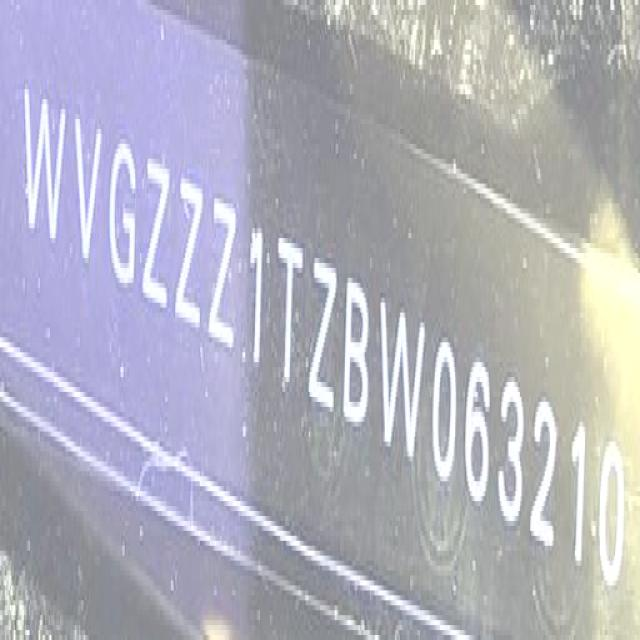0: (430, 329, 460, 487), (599, 423, 626, 586)
1: (247, 213, 267, 375), (570, 412, 588, 572)
2: (530, 384, 559, 561)
3: (494, 366, 526, 531)
6: (464, 336, 492, 513)
B: (343, 263, 370, 437)
G: (108, 125, 140, 298)
T: (277, 224, 305, 410)
V: (71, 107, 103, 268)
W: (375, 287, 427, 483), (21, 65, 67, 258)
Z: (208, 180, 236, 357), (144, 136, 170, 325), (175, 162, 202, 334), (310, 244, 336, 412)
